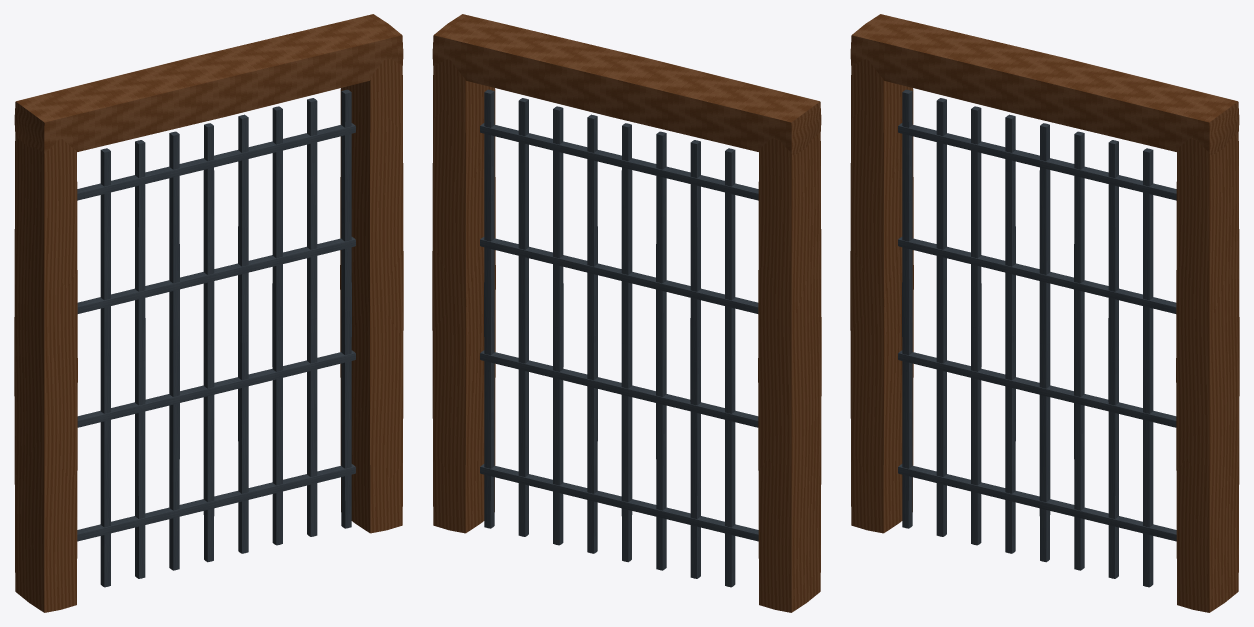
3 views of the same model, side by side, from view 1: azimuth 30°, elevation 25°; view 2: azimuth 150°, elevation 25°; view 3: azimuth 330°, elevation 25° (orthographic).
Visible parts, largest first — view 1: wood.0, wood.1, wood.2, iron.7, iron.11, iron.10, iron.5, iron.4, iron.8, iron.6, iron.9, iron.12 (+3 smaller); view 2: wood.0, wood.1, wood.2, iron.7, iron.11, iron.10, iron.5, iron.4, iron.8, iron.6, iron.9, iron.12 (+3 smaller); view 3: wood.1, wood.0, wood.2, iron.7, iron.3, iron.4, iron.9, iron.6, iron.10, iron.8, iron.5, iron.12 (+3 smaller).
Part boxes in pixels (bbox=[...]): wood.0: bbox=[14, 133, 77, 612]; wood.1: bbox=[340, 58, 403, 533]; wood.2: bbox=[14, 14, 403, 153]; iron.7: bbox=[203, 123, 214, 562]; iron.11: bbox=[341, 89, 351, 528]; iron.10: bbox=[307, 98, 317, 536]; iron.5: bbox=[135, 140, 145, 578]; iron.4: bbox=[100, 148, 110, 587]; iron.8: bbox=[238, 114, 248, 553]; iron.6: bbox=[169, 131, 179, 570]; iron.9: bbox=[272, 106, 282, 545]; iron.12: bbox=[77, 464, 355, 541]; wood.0: bbox=[758, 132, 821, 612]; wood.1: bbox=[432, 59, 495, 533]; wood.2: bbox=[432, 14, 821, 155]; iron.7: bbox=[621, 123, 632, 562]; iron.11: bbox=[484, 89, 494, 528]; iron.10: bbox=[518, 98, 528, 536]; iron.5: bbox=[690, 140, 700, 578]; iron.4: bbox=[725, 148, 735, 587]; iron.8: bbox=[587, 114, 597, 553]; iron.6: bbox=[656, 131, 666, 570]; iron.9: bbox=[553, 106, 563, 545]; iron.12: bbox=[480, 464, 758, 541]; wood.1: bbox=[1176, 132, 1239, 612]; wood.0: bbox=[850, 59, 913, 533]; wood.2: bbox=[850, 14, 1239, 155]; iron.7: bbox=[1039, 123, 1050, 562]; iron.3: bbox=[902, 89, 912, 528]; iron.4: bbox=[936, 98, 946, 536]; iron.9: bbox=[1108, 140, 1118, 578]; iron.6: bbox=[1005, 114, 1015, 553]; iron.10: bbox=[1143, 148, 1153, 587]; iron.8: bbox=[1074, 131, 1084, 570]; iron.5: bbox=[971, 106, 981, 545]; iron.12: bbox=[898, 464, 1176, 541].
Bounding box in the file's own units: 2 × 2.61 × 0.3.
Materials: 2 (2 with a texture image).
